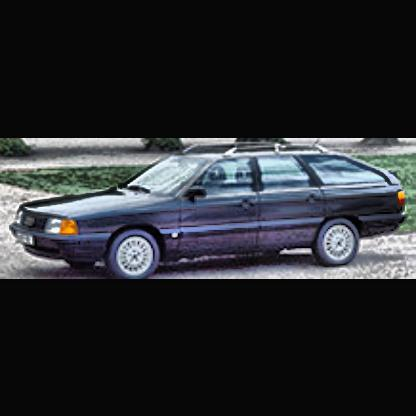Audi 100 Wagon 1994: (10, 142, 412, 279)
